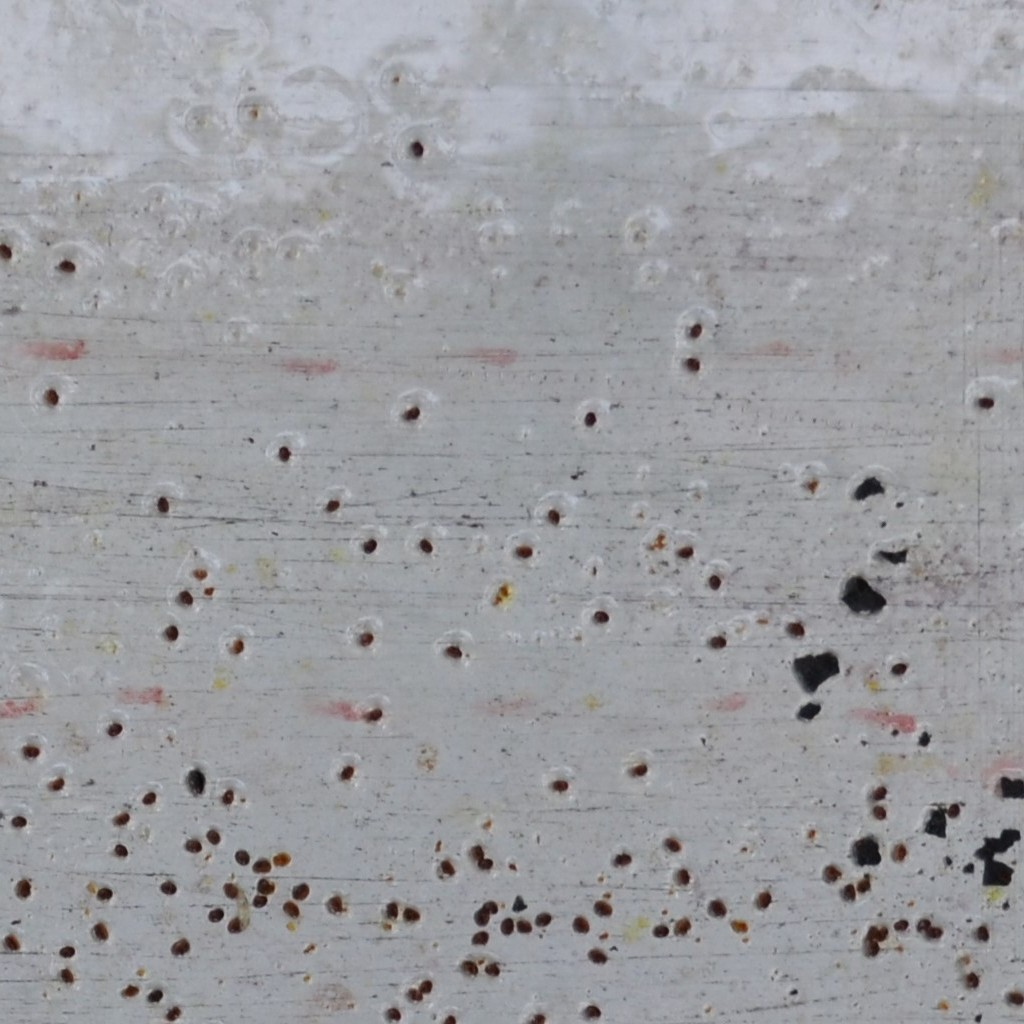varroa: (186, 767, 210, 798), (228, 631, 249, 660), (671, 913, 695, 938), (888, 656, 910, 682), (279, 898, 303, 921), (570, 912, 591, 938), (974, 390, 994, 417), (818, 862, 842, 884), (584, 947, 610, 967), (579, 1001, 605, 1021), (514, 541, 537, 563), (170, 936, 191, 960), (867, 781, 890, 802), (754, 889, 775, 912), (670, 866, 693, 887), (591, 898, 615, 918), (47, 772, 66, 797), (703, 571, 724, 593), (888, 841, 910, 862), (1001, 986, 1023, 1007), (860, 936, 881, 958), (289, 880, 311, 901), (271, 846, 292, 868), (548, 777, 571, 797), (254, 876, 277, 896), (226, 913, 246, 936), (206, 904, 226, 927), (157, 878, 180, 898), (326, 895, 347, 916), (705, 899, 727, 919), (612, 850, 634, 870), (90, 921, 110, 943), (13, 878, 33, 900), (399, 404, 422, 423), (359, 536, 382, 555), (590, 607, 613, 626), (974, 921, 992, 945), (360, 707, 385, 724), (707, 630, 727, 651), (660, 835, 681, 855), (104, 719, 124, 740), (581, 408, 600, 430), (533, 909, 555, 928), (442, 640, 464, 659), (119, 980, 141, 999), (870, 803, 890, 823), (961, 969, 981, 989), (684, 355, 703, 376), (546, 507, 565, 528), (630, 761, 651, 780), (468, 928, 489, 947), (162, 623, 181, 644), (10, 811, 29, 832), (140, 788, 158, 810), (3, 931, 21, 953), (93, 884, 116, 901), (322, 498, 342, 517), (471, 909, 491, 928), (460, 958, 480, 977), (403, 905, 423, 924), (219, 787, 238, 807), (154, 494, 173, 514), (417, 536, 435, 557), (652, 922, 670, 943), (233, 847, 251, 868), (176, 587, 194, 608), (383, 900, 400, 922), (204, 826, 221, 848), (222, 880, 239, 902), (674, 545, 697, 561), (356, 629, 375, 648), (250, 892, 269, 911), (57, 257, 76, 276), (183, 836, 202, 855), (840, 881, 855, 905), (515, 917, 535, 935), (785, 619, 805, 637), (251, 858, 271, 876), (112, 809, 130, 829), (57, 965, 75, 985), (686, 320, 703, 341), (499, 916, 516, 937), (57, 942, 78, 959), (855, 876, 871, 898), (482, 962, 505, 977), (437, 860, 456, 878), (42, 387, 60, 406), (162, 1004, 181, 1022), (275, 444, 292, 464), (925, 925, 945, 942), (479, 899, 499, 916), (338, 762, 355, 782), (145, 989, 165, 1006), (188, 567, 209, 583), (0, 239, 14, 263), (21, 743, 40, 760), (475, 856, 495, 872), (523, 1011, 549, 1023), (946, 799, 960, 821), (113, 841, 131, 858), (415, 977, 434, 993), (409, 139, 424, 159), (891, 918, 911, 933), (914, 916, 931, 933), (384, 1007, 403, 1022), (864, 924, 881, 940), (468, 844, 486, 859), (407, 987, 425, 1002), (877, 924, 889, 945), (439, 1012, 458, 1023)
